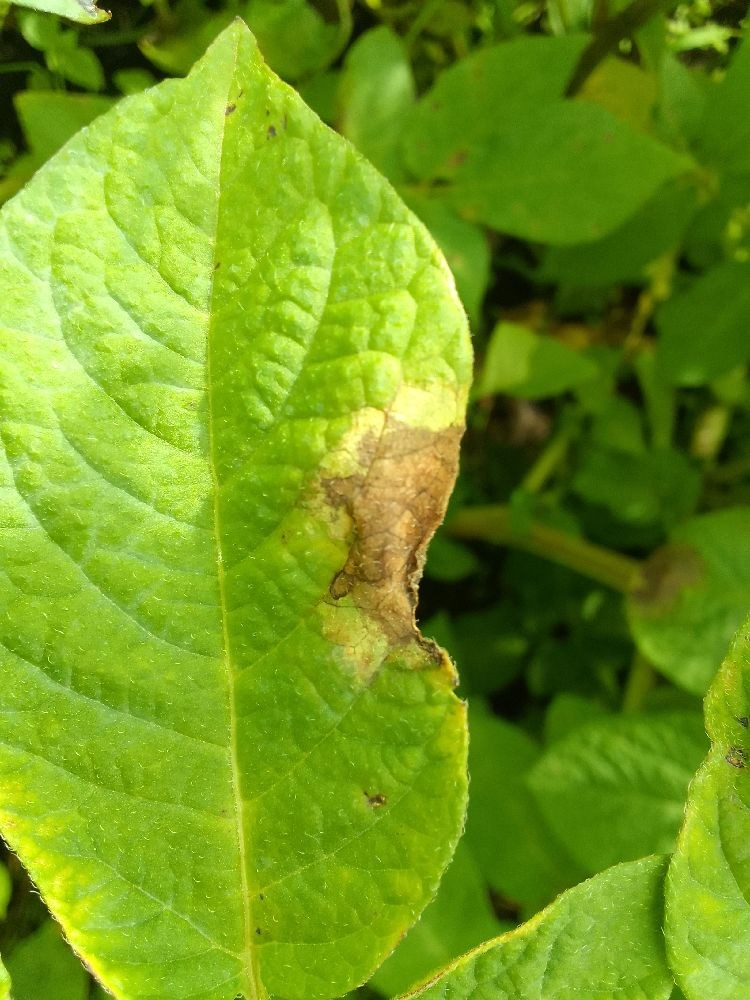late_blight: (294, 379, 567, 700), (507, 502, 728, 641), (478, 261, 689, 383), (290, 0, 498, 88)
